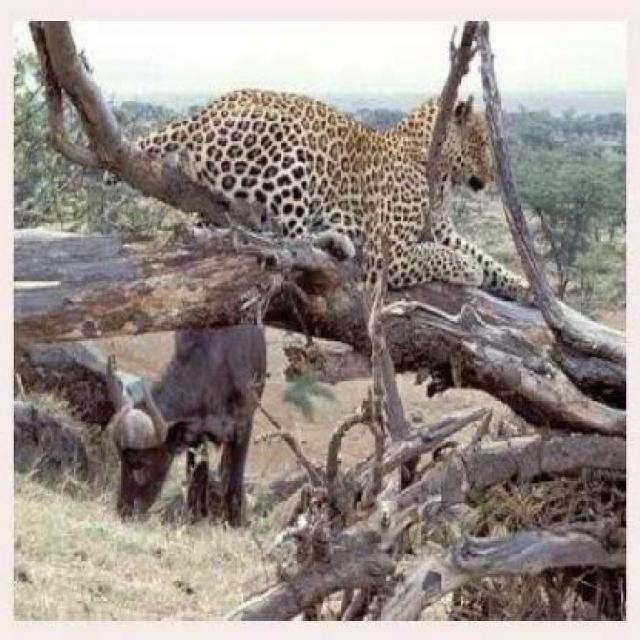Leopard: (153, 39, 584, 406)
